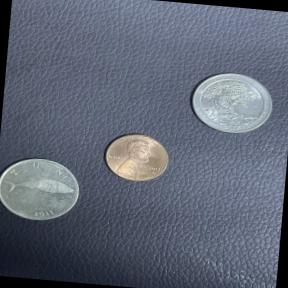coin: (181, 65, 280, 141), (0, 151, 87, 229), (98, 127, 175, 189)
